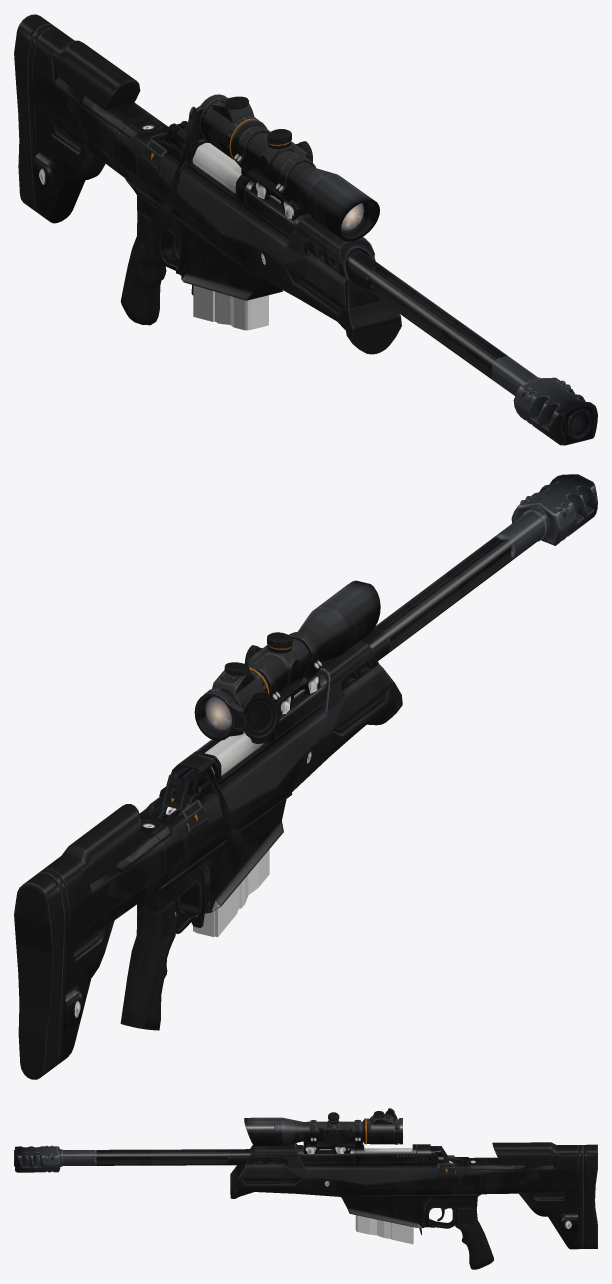
File: Weapon-Sniper.glb
3 renders of one model, top to bottom at view 1: azimuth 30°, elevation 25°; view 2: azimuth 150°, elevation 25°; view 3: azimuth 270°, elevation 25°, orthographic. The views are drawn at different scales.
Parts seen in each view (by area): view 1: Cylinder.019_Cylinder.005; view 2: Cylinder.019_Cylinder.005; view 3: Cylinder.019_Cylinder.005.
Part boxes in pixels (x1,y1,x2,y2): Cylinder.019_Cylinder.005: [14, 14, 597, 445]; Cylinder.019_Cylinder.005: [14, 474, 597, 1079]; Cylinder.019_Cylinder.005: [14, 1108, 597, 1269].
Bounding box in the file's own units: 2.63 × 9.01 × 30.67.
Materials: 2 (1 with a texture image).
